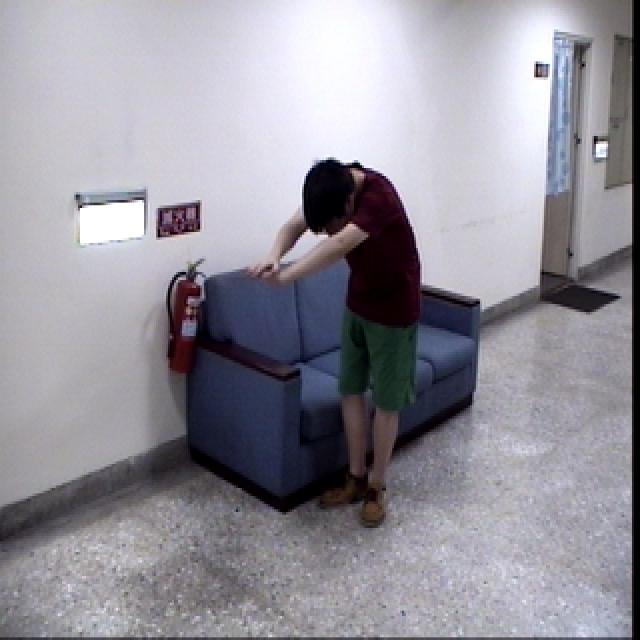bend: (238, 148, 423, 529)
